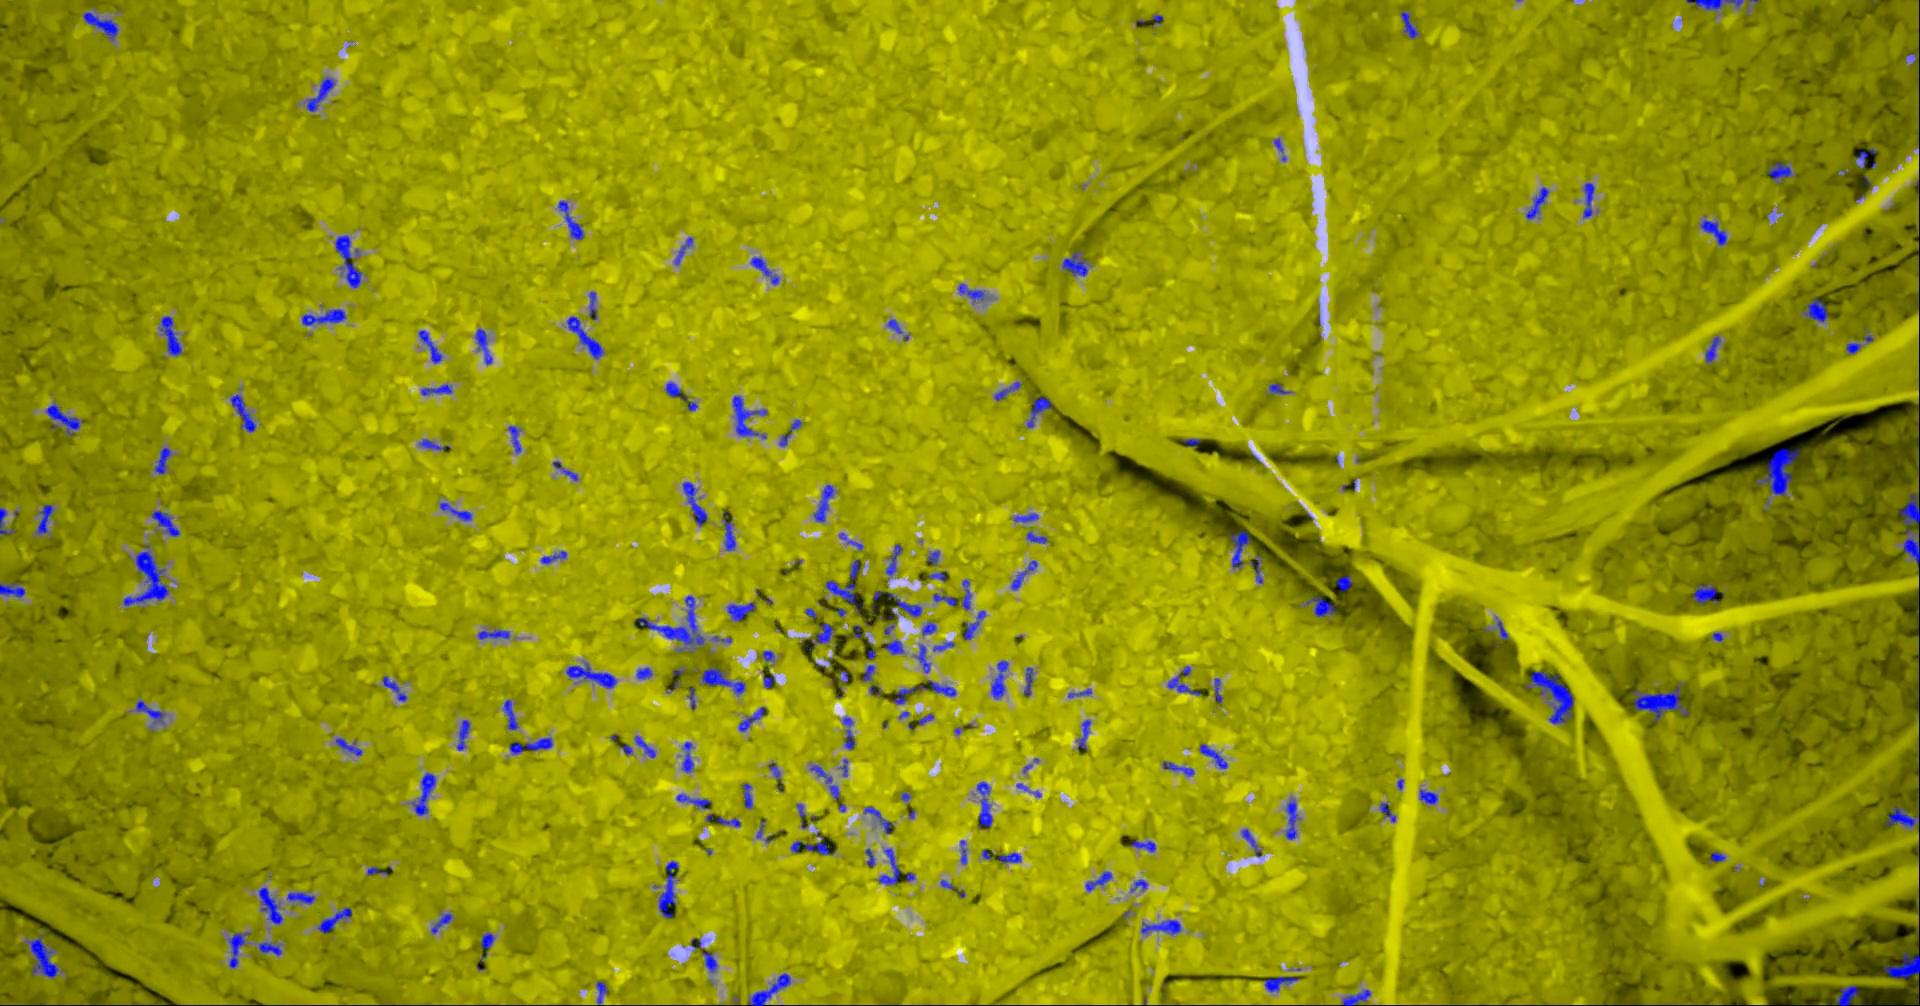ant: (635, 594, 703, 650), (122, 544, 169, 606), (1524, 669, 1573, 723), (1755, 447, 1798, 495), (1632, 685, 1688, 721), (825, 559, 861, 614), (1882, 949, 1919, 992), (566, 316, 603, 358), (731, 395, 766, 438), (1898, 492, 1919, 564), (1884, 788, 1919, 829), (25, 934, 58, 977), (334, 235, 361, 287), (747, 973, 790, 1005), (565, 662, 616, 688), (658, 860, 678, 918), (44, 404, 83, 434), (701, 667, 744, 694), (809, 763, 839, 799), (682, 481, 706, 526), (411, 772, 436, 815), (557, 199, 583, 239), (229, 394, 255, 431), (306, 77, 335, 111), (1167, 666, 1200, 695), (83, 11, 117, 39), (157, 315, 182, 354), (257, 887, 282, 923), (888, 592, 921, 619), (317, 907, 350, 934), (750, 257, 778, 285), (1011, 560, 1037, 589), (1026, 396, 1051, 427), (509, 737, 552, 754), (877, 848, 899, 884), (1525, 185, 1548, 218), (418, 330, 441, 363), (1230, 528, 1250, 568), (813, 484, 833, 521), (806, 622, 833, 650), (863, 807, 891, 833), (301, 309, 345, 325), (1699, 218, 1726, 245), (151, 511, 179, 536), (1199, 743, 1227, 768), (977, 781, 992, 827), (229, 932, 249, 967), (790, 837, 832, 854), (990, 661, 1008, 699), (963, 610, 985, 639), (135, 700, 164, 723), (474, 328, 491, 365), (1062, 251, 1088, 276), (738, 706, 764, 730), (891, 683, 924, 702), (1803, 297, 1827, 323), (382, 676, 406, 701), (778, 419, 801, 446), (1239, 828, 1261, 856), (1305, 596, 1335, 616), (1685, 0, 1742, 10), (1285, 799, 1299, 840), (1140, 920, 1181, 934), (439, 502, 471, 520), (726, 602, 756, 621), (1691, 583, 1717, 605), (885, 542, 902, 575), (36, 503, 53, 533), (1263, 976, 1299, 991), (676, 793, 710, 808), (957, 283, 984, 302), (994, 381, 1021, 400), (152, 447, 171, 474), (1084, 871, 1111, 890), (723, 511, 735, 550), (674, 236, 692, 264), (1768, 161, 1790, 183), (1834, 984, 1858, 1005), (335, 737, 362, 754), (634, 735, 655, 757), (430, 912, 452, 934), (502, 699, 517, 729), (1162, 761, 1192, 776), (927, 680, 955, 696), (552, 461, 577, 480), (1399, 11, 1417, 37), (0, 507, 15, 535), (914, 644, 930, 672), (1076, 719, 1090, 749), (1342, 989, 1370, 1005), (842, 716, 855, 749), (1582, 182, 1594, 217), (681, 741, 693, 772), (507, 426, 521, 453), (1857, 147, 1876, 168), (456, 719, 469, 749), (1250, 554, 1262, 583), (1704, 337, 1719, 361), (0, 582, 24, 597), (420, 384, 452, 395), (477, 627, 509, 639), (665, 382, 686, 400), (286, 892, 314, 904), (540, 550, 566, 563), (1379, 801, 1396, 822), (258, 941, 281, 955), (419, 439, 450, 450), (702, 951, 717, 972), (480, 934, 494, 955), (961, 579, 971, 608), (885, 639, 904, 654), (1418, 789, 1437, 804), (1130, 840, 1156, 851), (932, 593, 956, 605), (596, 981, 607, 1005), (1023, 667, 1032, 696), (742, 782, 752, 807), (716, 815, 740, 826), (997, 852, 1021, 862), (1026, 531, 1046, 542), (1336, 575, 1351, 591), (1496, 620, 1507, 639), (1013, 513, 1037, 522), (1213, 678, 1222, 702), (588, 291, 596, 319), (863, 847, 874, 868), (888, 319, 902, 333), (1269, 384, 1290, 392), (932, 641, 954, 650), (862, 664, 874, 681), (1130, 879, 1147, 890), (921, 621, 935, 634), (1845, 342, 1860, 353), (636, 667, 651, 678), (1709, 851, 1724, 862), (927, 550, 938, 564), (763, 674, 775, 688), (1180, 438, 1200, 446), (367, 866, 387, 874), (960, 840, 966, 862)
